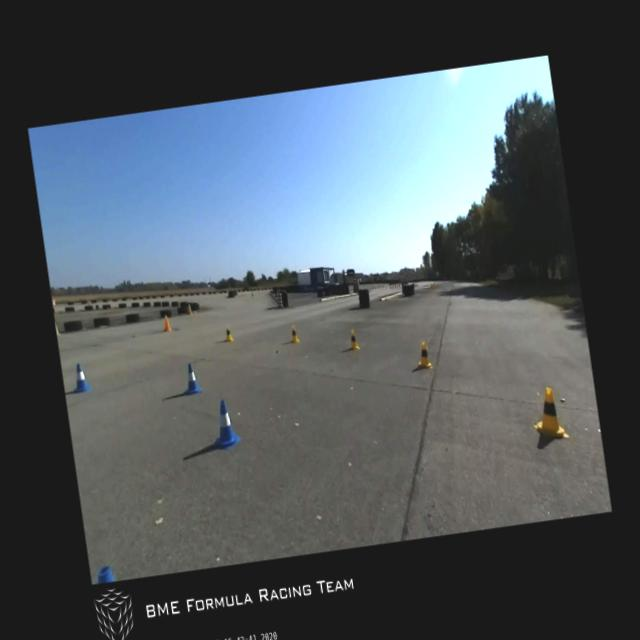blue_cone: (209, 398, 242, 452), (180, 362, 202, 398), (70, 364, 91, 394)
yellow_cone: (528, 384, 570, 442), (416, 340, 432, 370), (346, 328, 359, 352), (288, 324, 298, 344), (224, 326, 234, 343)
